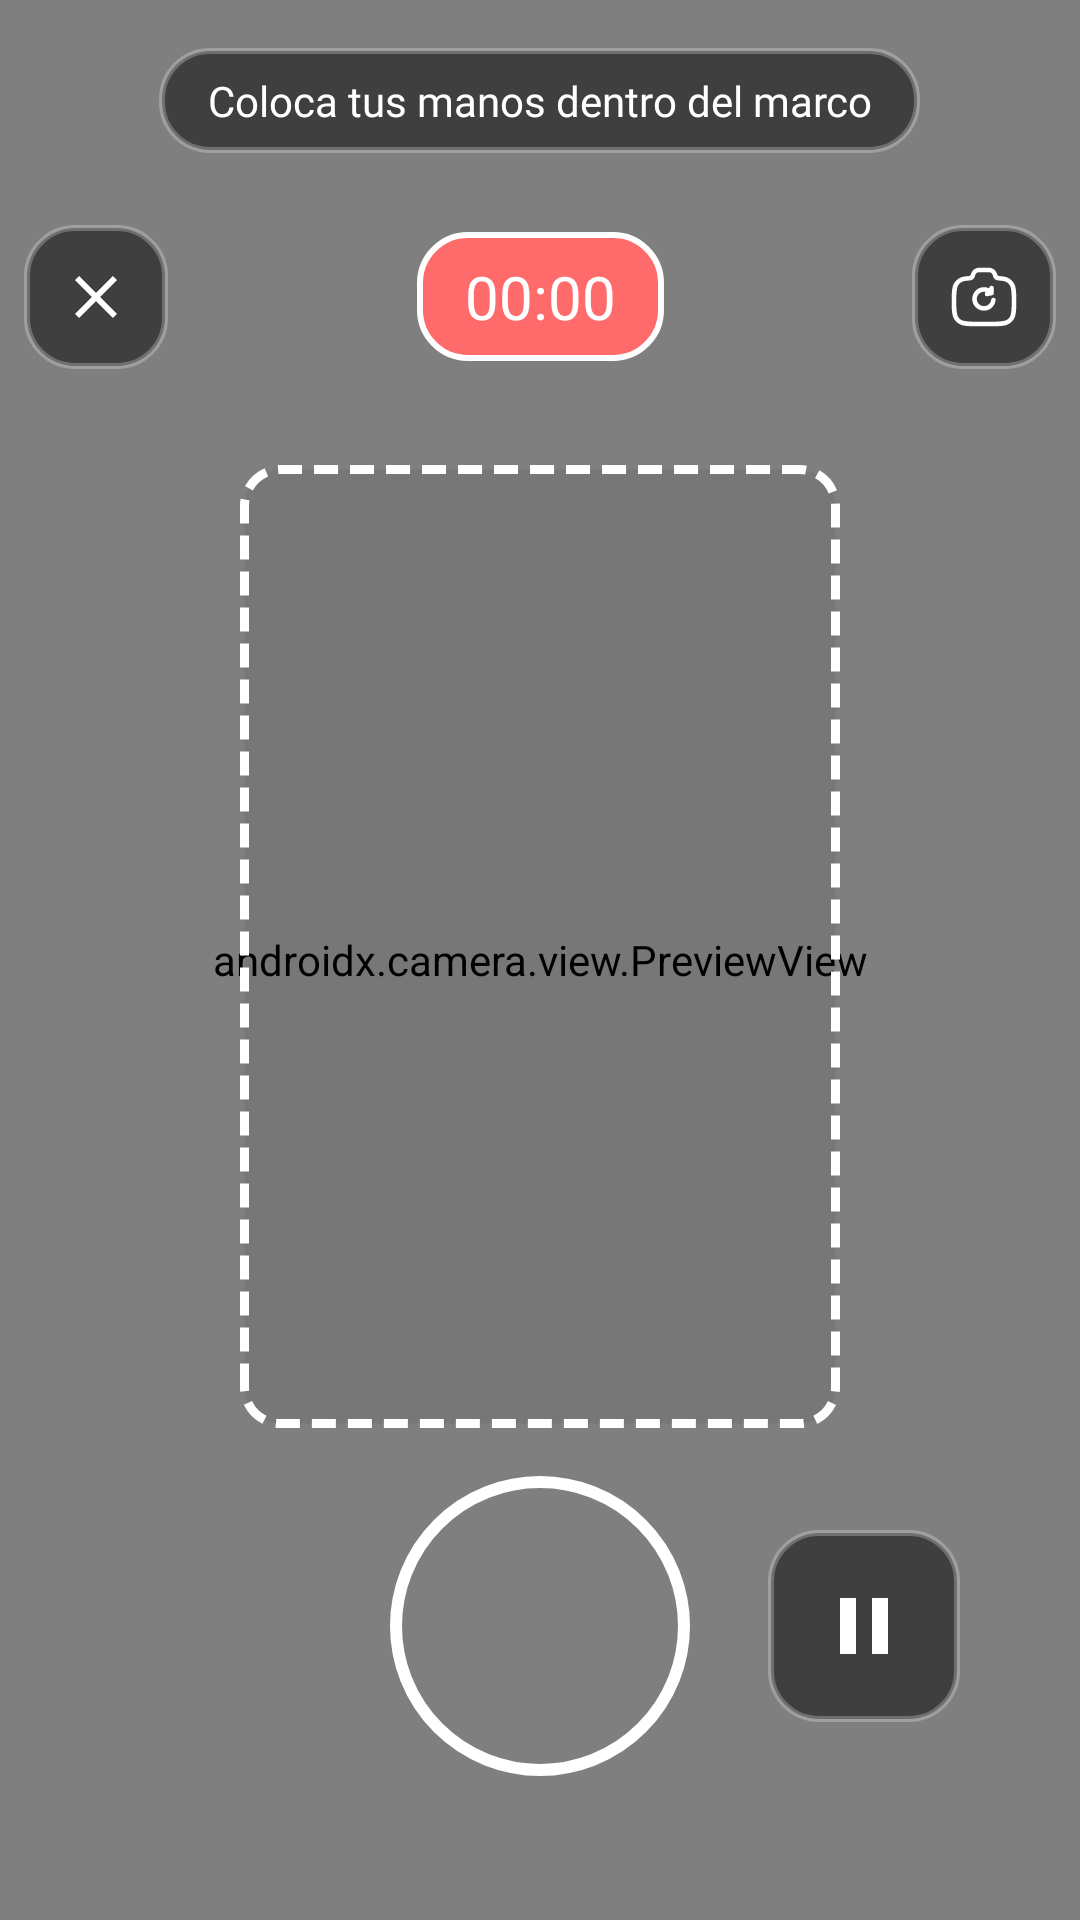

Icons on this 1080 × 1920 Android screen, each with the point to tap as (x=x, y=y):
Cerrar: (x=96, y=297)
circulo grabar exterior: (x=540, y=1626)
Pausar: (x=864, y=1626)
Rotar cámara: (x=984, y=297)
